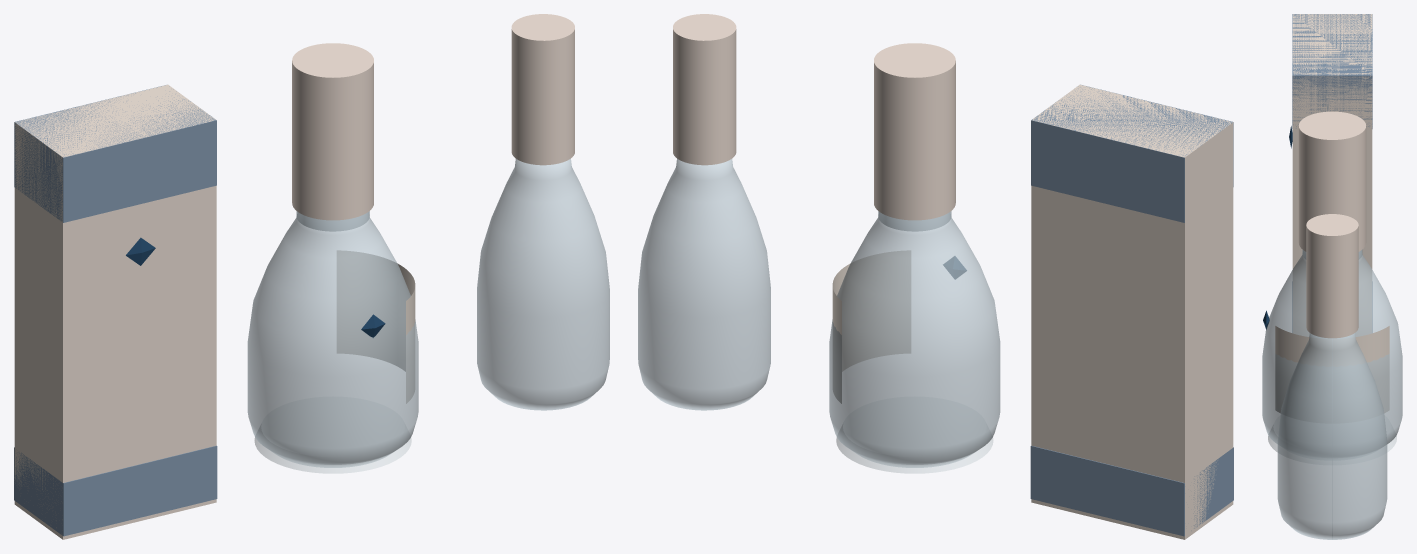
File: sealskin-confirmed-DCS0oUB4.glb
The picture shows the model from 3 angles, left to right: view 1: azimuth 30°, elevation 25°; view 2: azimuth 150°, elevation 25°; view 3: azimuth 270°, elevation 25°; orthographic projection. The views are drawn at different scales.
Visible parts, largest first — view 1: Display carton, Bottle body, Side bottle, Carton blue edge, Ivory cap, Carton lower edge, Side bottle cap, Front label, Bottle base, Neck ring; view 2: Display carton, Bottle body, Side bottle, Carton blue edge, Ivory cap, Carton lower edge, Side bottle cap, Front label, Bottle base, Neck ring; view 3: Side bottle, Bottle body, Display carton, Ivory cap, Carton blue edge, Side bottle cap, Front label.
Part boxes in pixels (x1,y1,x2,y2): Display carton: (14,84,216,539); Bottle body: (247,212,418,467); Side bottle: (477,158,609,410); Carton blue edge: (14,85,216,222); Ivory cap: (292,43,373,220); Carton lower edge: (14,445,217,536); Side bottle cap: (511,14,574,165); Front label: (337,250,415,403); Bottle base: (254,437,411,473); Neck ring: (296,211,369,231); Display carton: (1031,84,1233,539); Bottle body: (829,212,1000,467); Side bottle: (638,158,770,410); Carton blue edge: (1031,84,1233,222); Ivory cap: (874,43,955,220); Carton lower edge: (1030,445,1233,536); Side bottle cap: (673,14,736,165); Front label: (832,250,910,403); Bottle base: (836,437,993,473); Neck ring: (878,211,951,231); Side bottle: (1277,333,1387,539); Bottle body: (1262,250,1402,457); Display carton: (1292,14,1372,336); Ivory cap: (1298,111,1366,251); Carton blue edge: (1292,14,1372,128); Side bottle cap: (1306,214,1358,338); Front label: (1275,326,1389,412).
Size of the model in its own units: 3.88 by 2.57 by 1.02.
